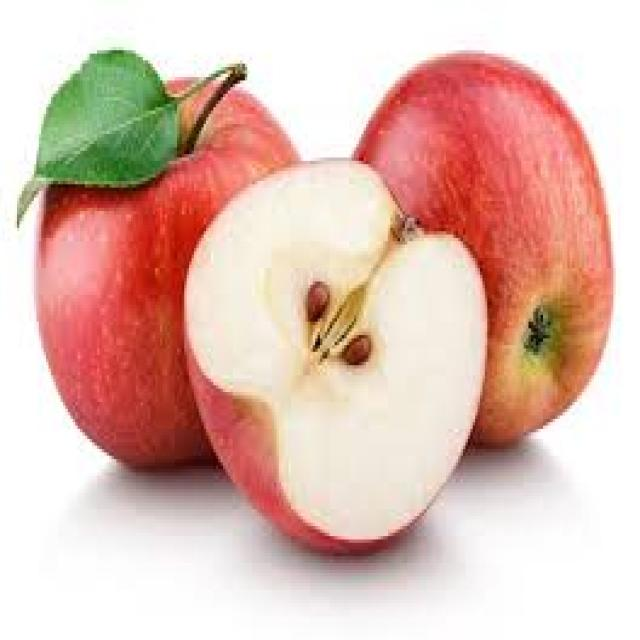Apple: (183, 157, 488, 544), (32, 64, 268, 472), (382, 50, 611, 426)
